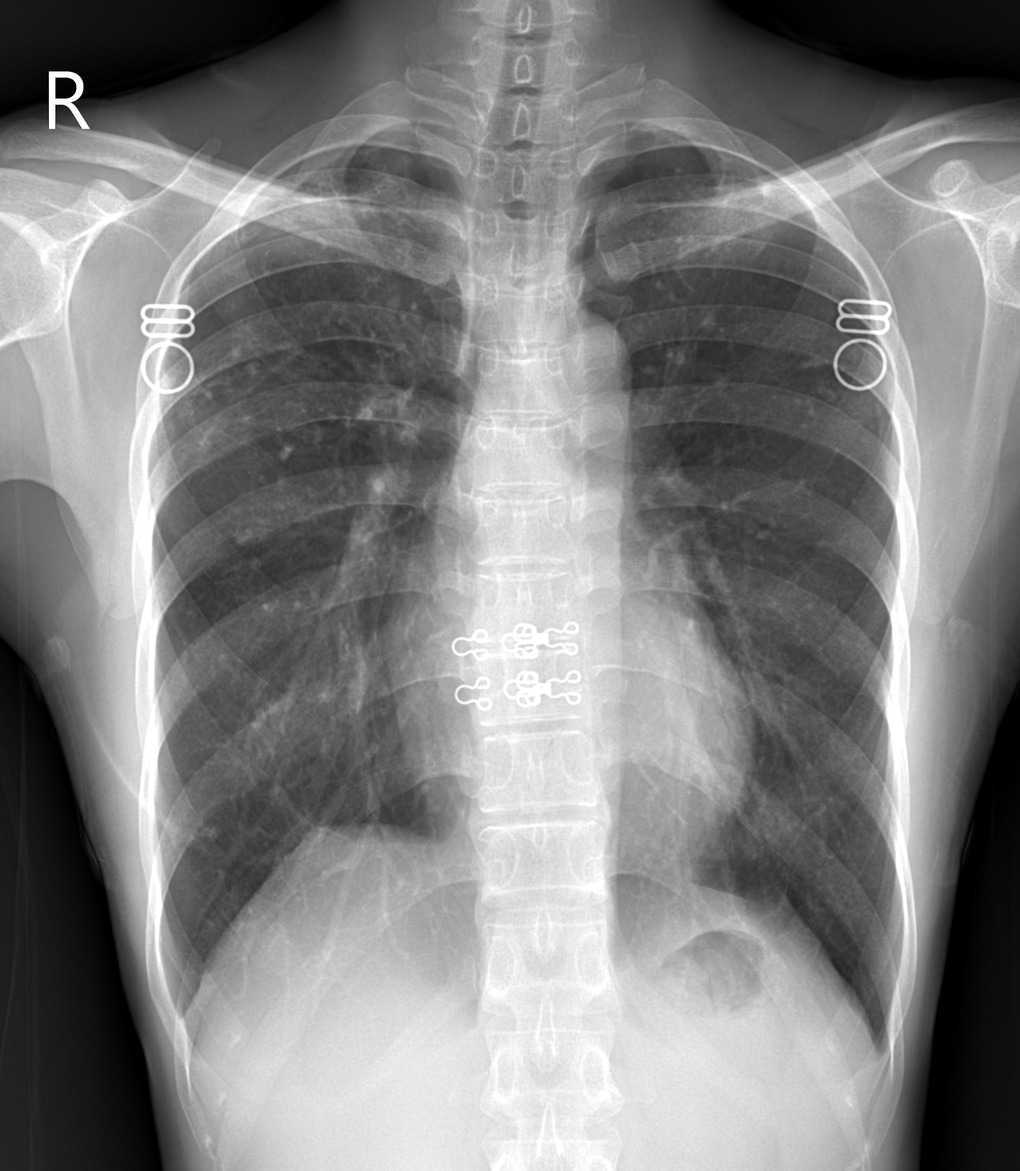Pulmonary fibrosis: (158, 166, 455, 454), (634, 163, 779, 403)
